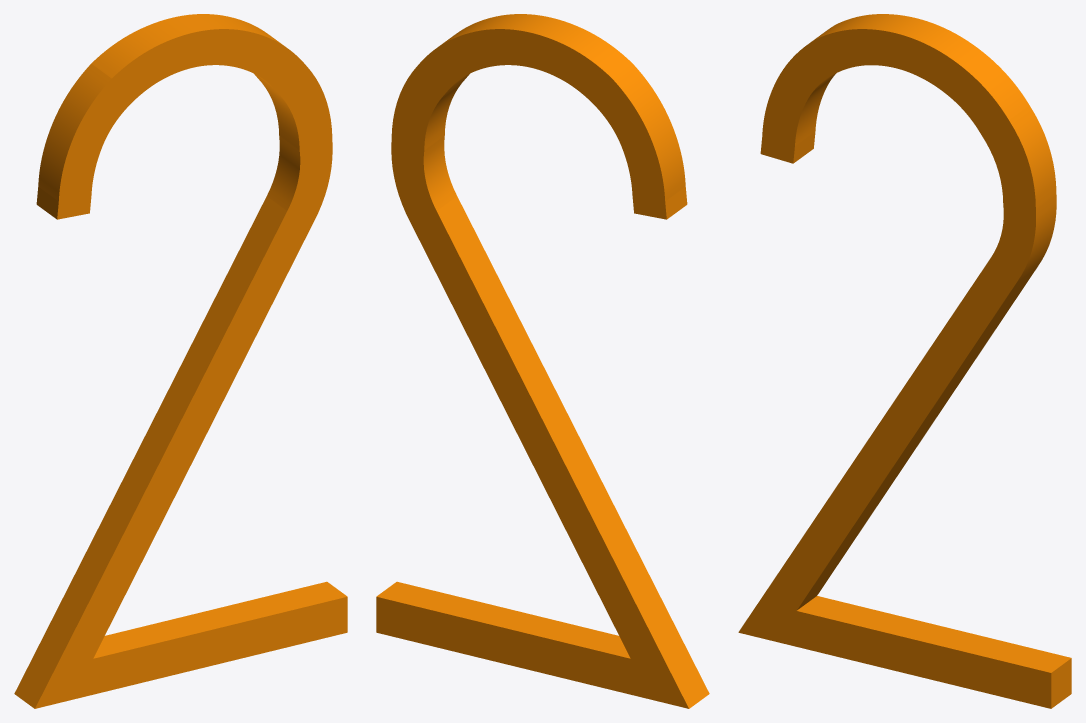
The picture shows the model from 3 angles, left to right: view 1: azimuth 30°, elevation 25°; view 2: azimuth 150°, elevation 25°; view 3: azimuth 330°, elevation 25°; orthographic projection.
Visible parts, largest first — view 1: 2; view 2: 2; view 3: 2.
Boxes of the visible parts, x1,y1,x2,y2 form: 2: [14, 14, 347, 708]; 2: [376, 14, 709, 708]; 2: [738, 14, 1071, 708].
Bounding box in the file's own units: 43.91 × 85.5 × 5.
